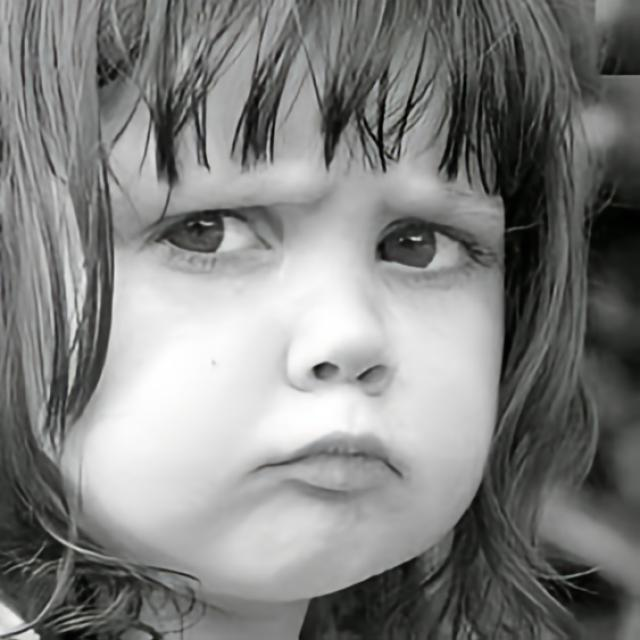anger: (90, 34, 524, 598)
